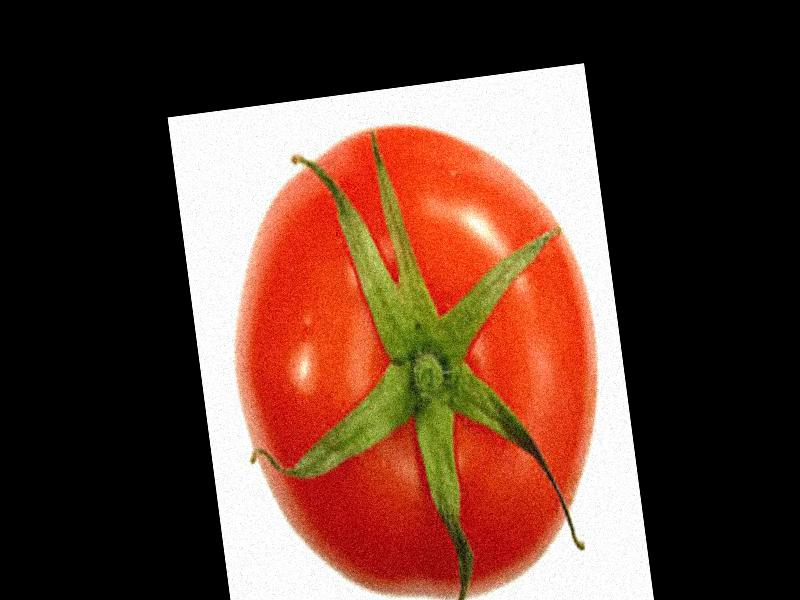Tomato: (208, 100, 626, 600)
